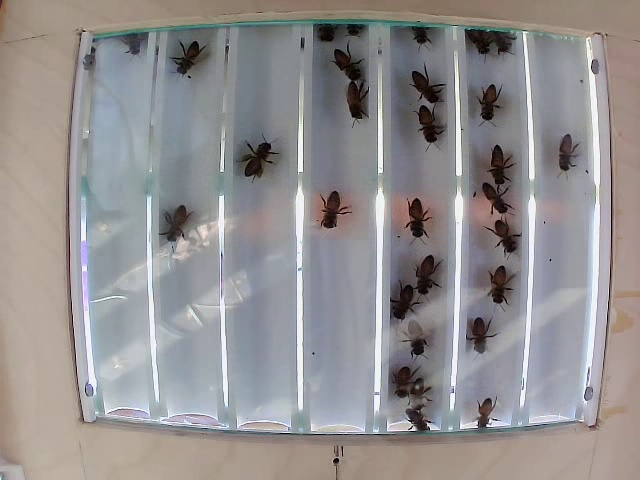bee: (155, 204, 199, 252), (344, 84, 377, 141), (458, 312, 494, 363), (240, 144, 275, 195), (169, 38, 217, 75), (397, 192, 430, 244), (401, 317, 441, 356), (329, 51, 370, 87), (470, 396, 502, 441), (488, 138, 517, 186), (552, 130, 577, 185), (487, 263, 515, 308), (402, 73, 440, 106), (317, 193, 344, 238), (411, 253, 444, 288), (413, 109, 445, 143), (485, 75, 510, 118), (388, 282, 414, 322), (482, 180, 512, 210), (405, 375, 433, 406), (394, 364, 416, 403), (490, 218, 518, 248)
